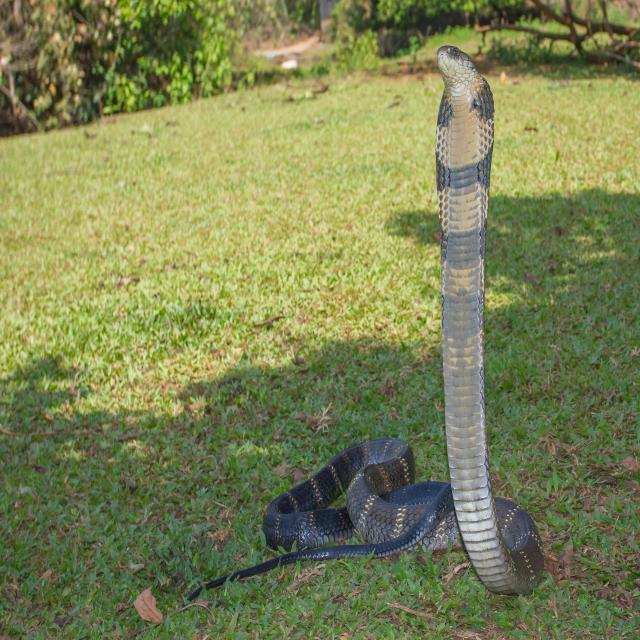Snake: (184, 44, 546, 604)
